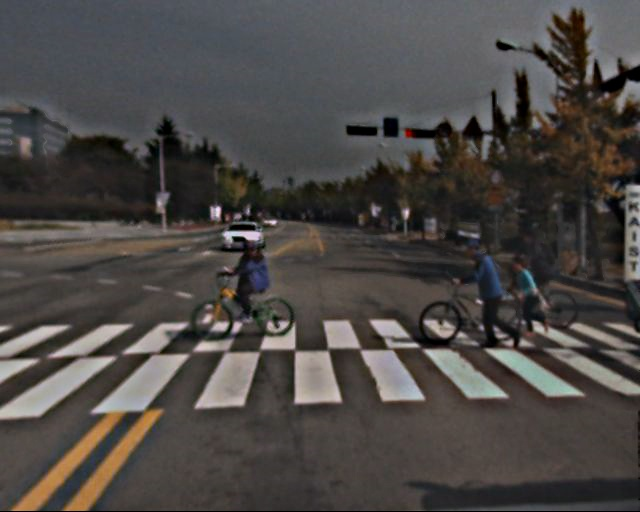person: (467, 238, 513, 349), (232, 239, 275, 328), (524, 228, 564, 316), (514, 258, 549, 338)
